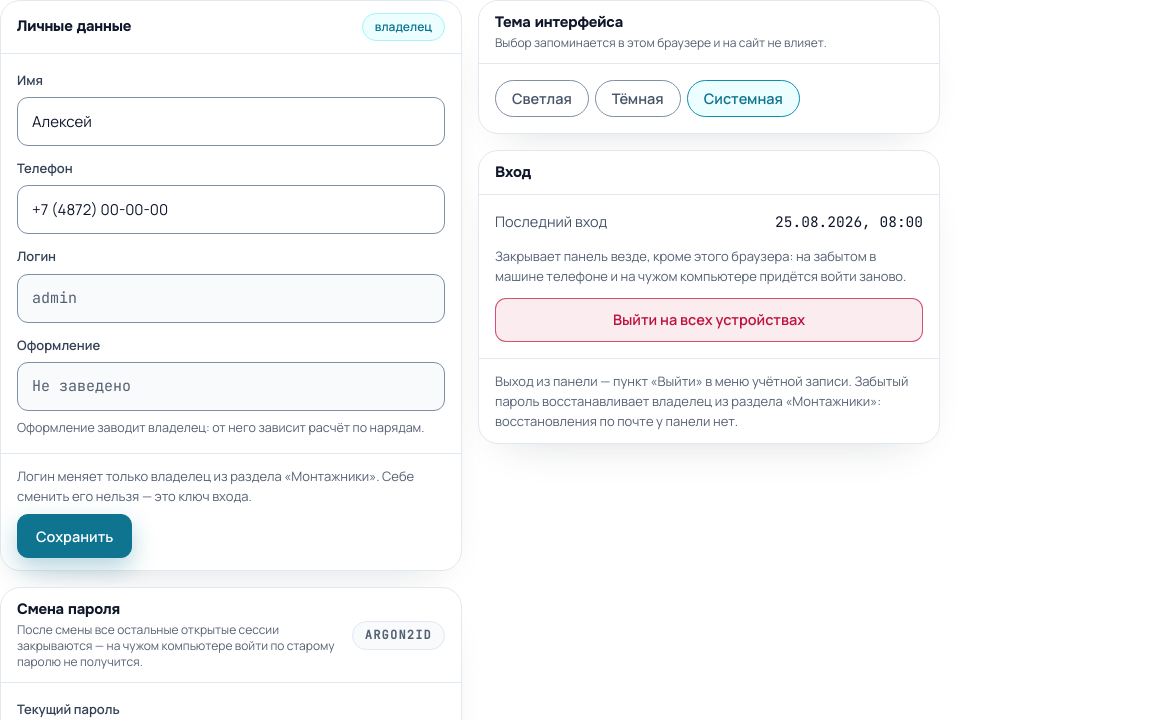
Test: Профиль › 🔴 выход на всех устройствах спрашивает подтверждение
This screenshot has width=1152, height=720.
Click the button "Выйти на всех устройствах".
click(709, 320)  # box [495,298,923,342]
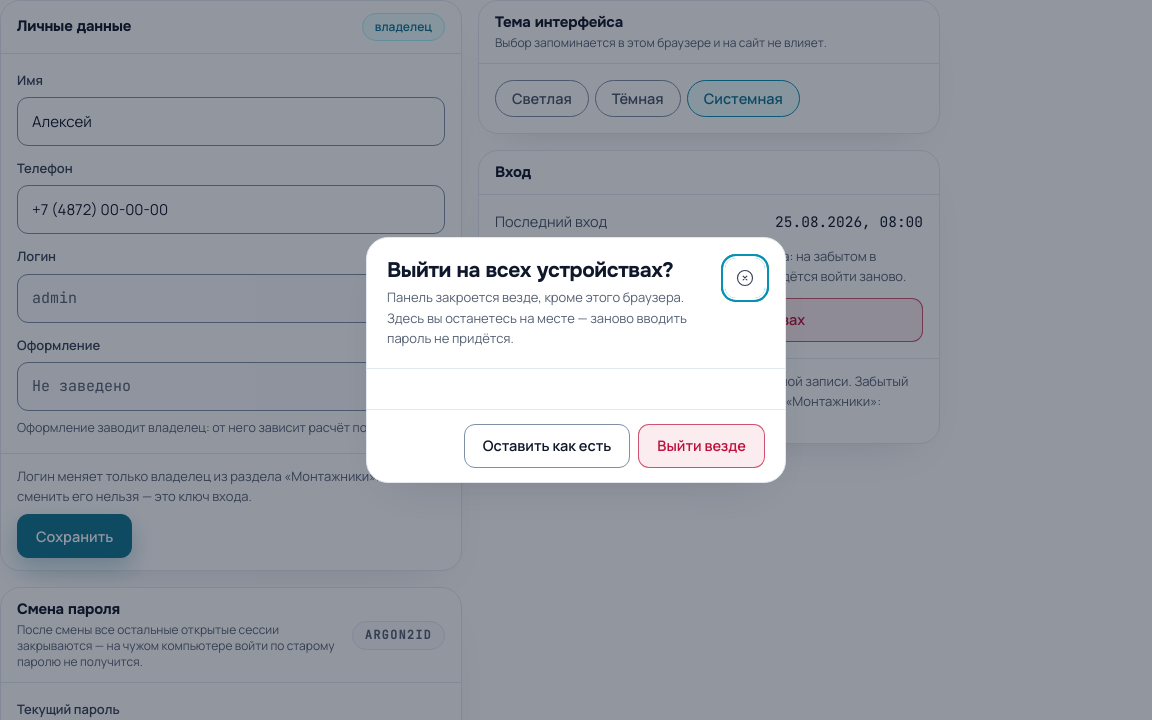
Click the button "Выйти везде".
click(702, 446)  # box [638,424,765,468]
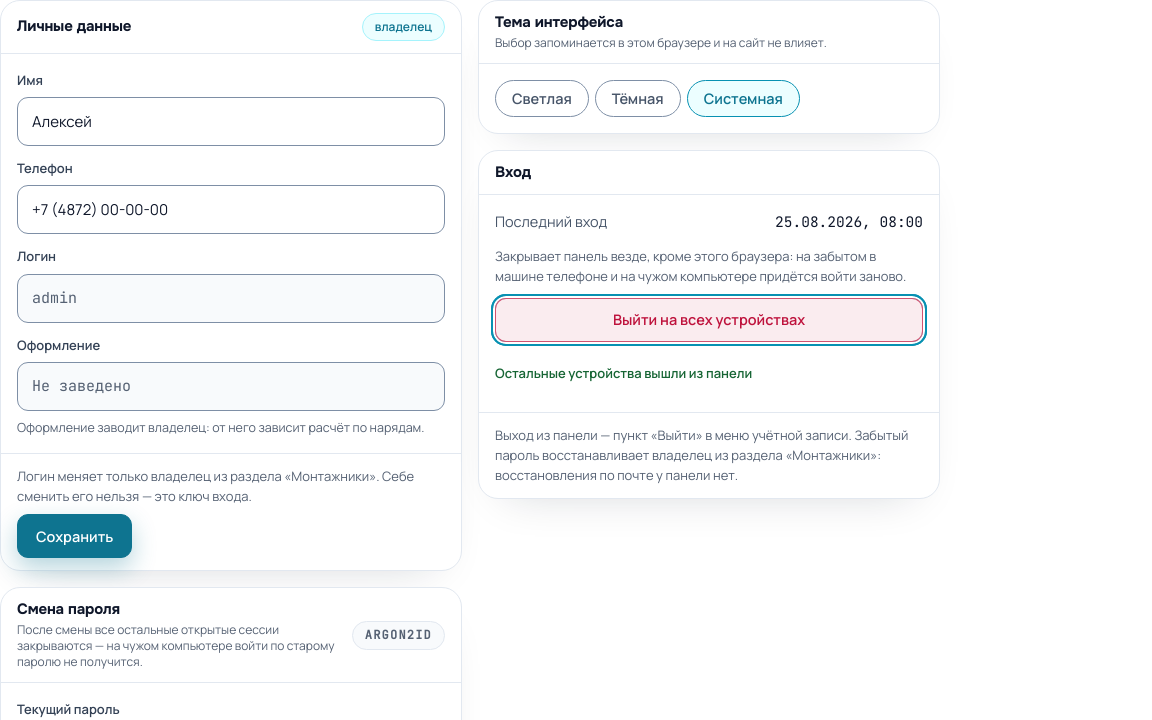
Expected: the message reads "Остальные устройства вышли из панели", [495,364,752,382]
